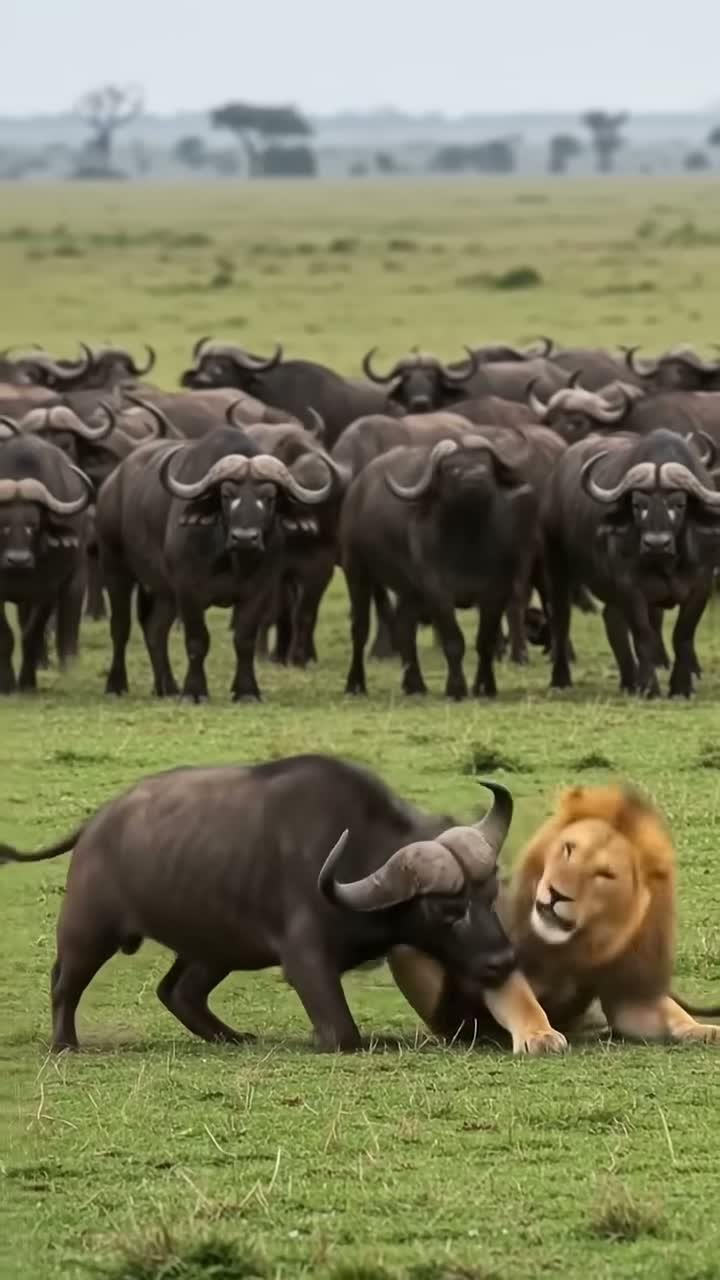Buffalo: (7, 294, 720, 731), (0, 734, 518, 986)
lions: (533, 774, 720, 1093)
